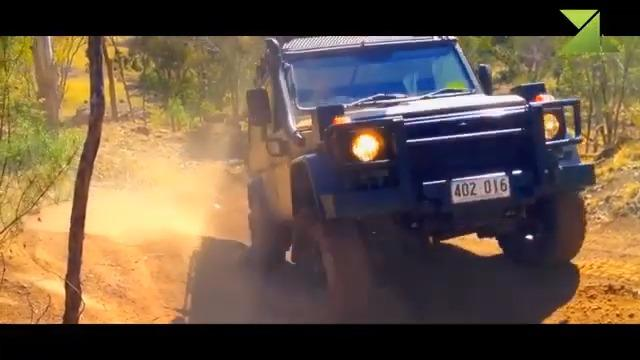MIL_HMMWV: (245, 35, 595, 322)
